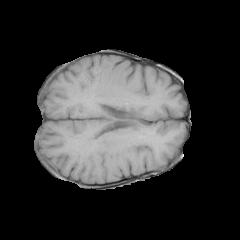glioma: (67, 128, 110, 156)
